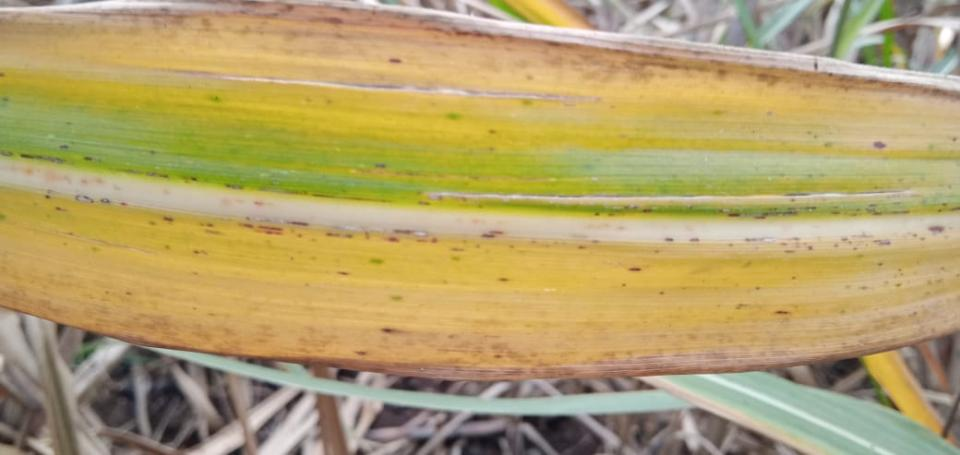Rust: (751, 206, 819, 220), (18, 151, 67, 167), (111, 166, 170, 179), (862, 205, 911, 216), (322, 230, 352, 243), (391, 228, 432, 237), (257, 223, 281, 237), (72, 193, 96, 205), (480, 228, 504, 239), (286, 217, 310, 228), (872, 138, 889, 153), (376, 321, 394, 334), (385, 236, 404, 246), (335, 266, 349, 279), (221, 183, 243, 191), (496, 274, 513, 284), (927, 227, 945, 236), (160, 215, 175, 224), (686, 236, 702, 244), (82, 154, 95, 163), (783, 247, 799, 254), (662, 235, 676, 243), (627, 266, 643, 273), (388, 58, 403, 65), (774, 309, 788, 316), (727, 211, 741, 218), (98, 197, 111, 204), (919, 237, 926, 241), (912, 233, 918, 237)
Yellow: (1, 188, 960, 379), (0, 0, 959, 160)
